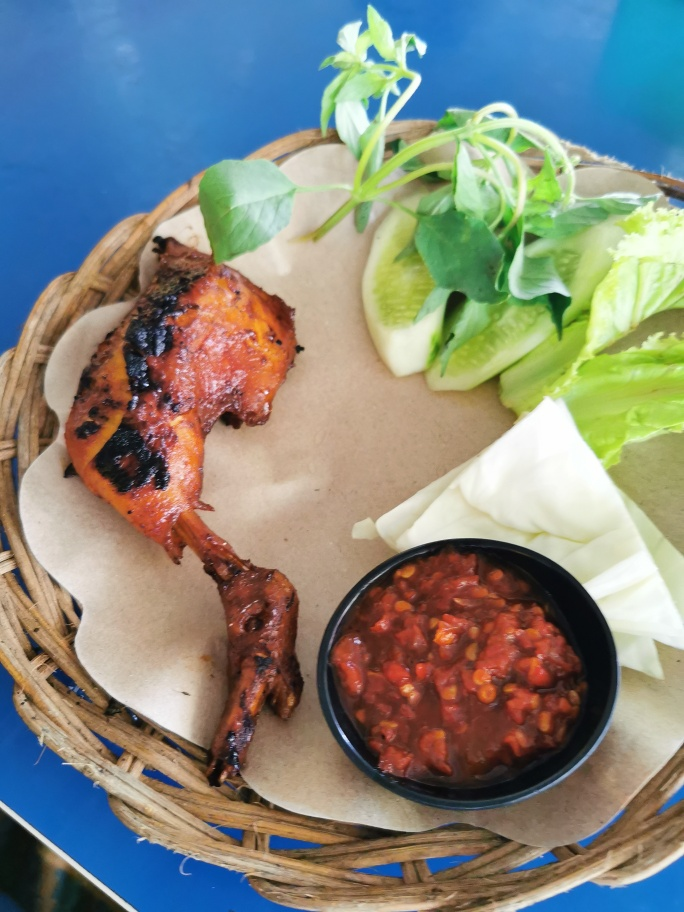ayam bakar: (55, 218, 338, 787)
